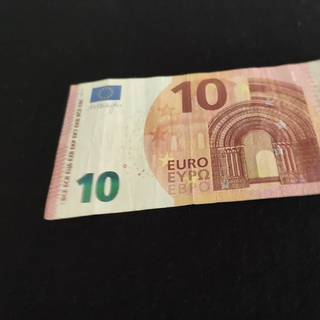10EUROFront: (42, 58, 320, 221)
